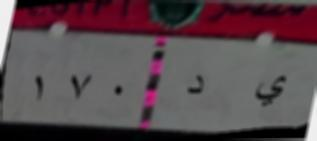0: (106, 79, 129, 105)
1: (30, 70, 49, 106)
7: (68, 70, 93, 106)
daal: (180, 67, 207, 103)
yaa: (253, 67, 288, 113)
